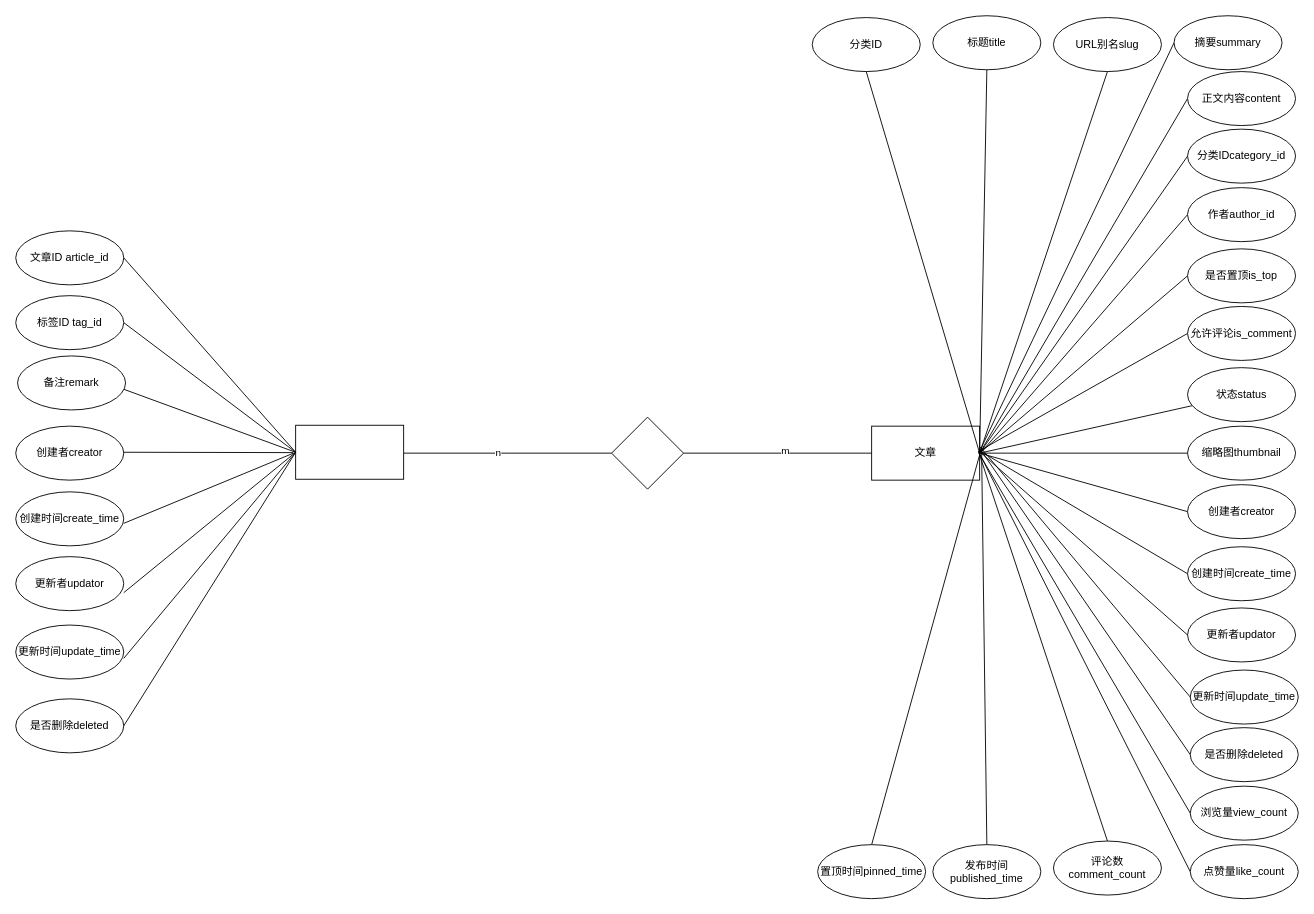
Some shapes in this 1314 by 914 pixel diagram are drawn without their labels. Here are the shapes that lost their labels. From the top down, the centre of each, then its label:
At [349,451]: "标签".
At [647,452]: "包含".
